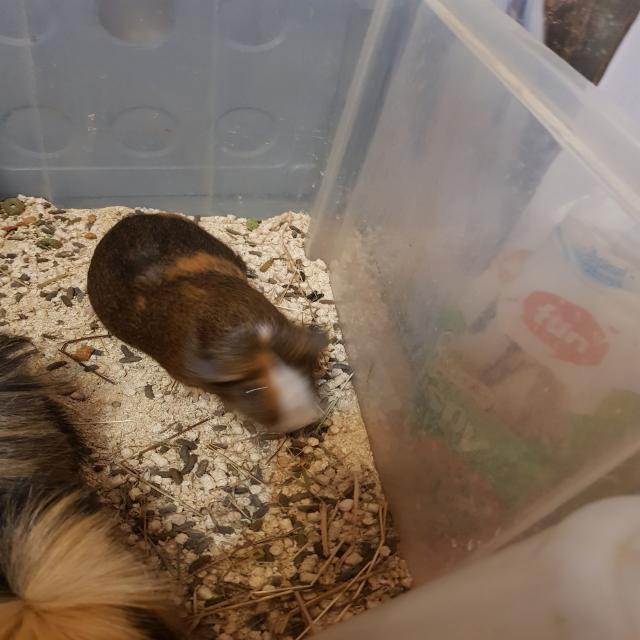guinea pig: (2, 327, 204, 640), (83, 210, 322, 437)
